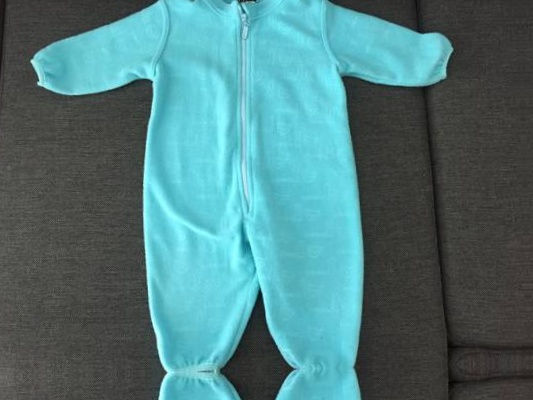Body: (11, 0, 476, 367), (22, 375, 487, 400)
